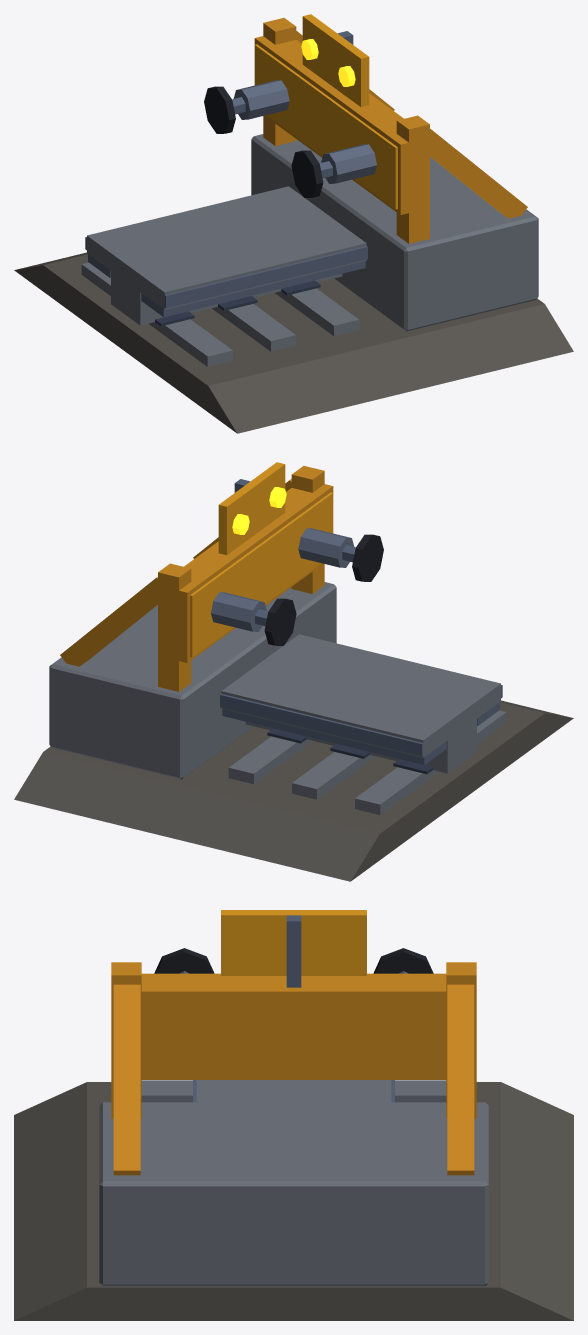
File: rail_track_buffer.glb
The picture shows the model from 3 angles, top to bottom: view 1: azimuth 30°, elevation 25°; view 2: azimuth 150°, elevation 25°; view 3: azimuth 270°, elevation 25°; orthographic projection. The views are drawn at different scales.
Parts seen in each view (by area): view 1: end_block, ballast, frame, hazard, steelwork, buffer, buffer_pad, fastening, warning_lamp; view 2: end_block, ballast, frame, hazard, steelwork, buffer, buffer_pad, fastening, warning_lamp; view 3: end_block, ballast, frame, hazard, buffer_pad, steelwork.
Boxes of the visible parts, bbox=[...] form: end_block: bbox=[81, 134, 538, 366]; ballast: bbox=[14, 252, 573, 433]; frame: bbox=[254, 18, 527, 243]; hazard: bbox=[254, 14, 397, 209]; steelwork: bbox=[85, 31, 367, 316]; buffer: bbox=[233, 80, 376, 183]; buffer_pad: bbox=[204, 86, 323, 197]; fastening: bbox=[155, 280, 320, 326]; warning_lamp: bbox=[301, 39, 355, 86]; end_block: bbox=[49, 582, 506, 814]; ballast: bbox=[14, 700, 573, 881]; frame: bbox=[60, 466, 333, 691]; hazard: bbox=[190, 462, 333, 657]; steelwork: bbox=[220, 479, 502, 764]; buffer: bbox=[211, 528, 354, 631]; buffer_pad: bbox=[264, 534, 383, 645]; fastening: bbox=[267, 728, 432, 774]; warning_lamp: bbox=[232, 487, 286, 534]; end_block: bbox=[99, 1080, 488, 1286]; ballast: bbox=[14, 1082, 573, 1320]; frame: bbox=[111, 962, 476, 1175]; hazard: bbox=[221, 910, 366, 975]; buffer_pad: bbox=[154, 948, 433, 973]; steelwork: bbox=[179, 915, 408, 1102].
Bounding box in the file's own units: 4 × 3 × 4.6.
